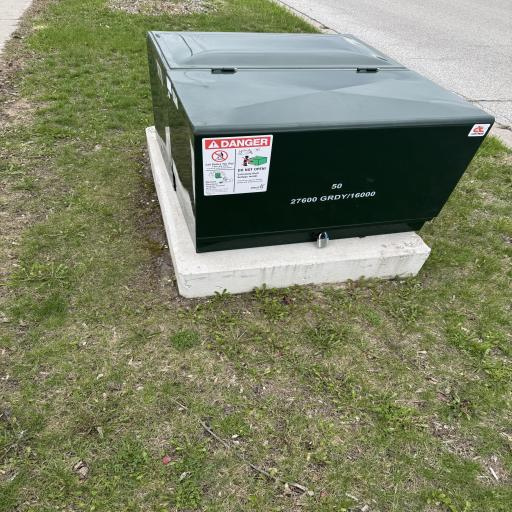Electrical Box: (142, 28, 494, 252)
